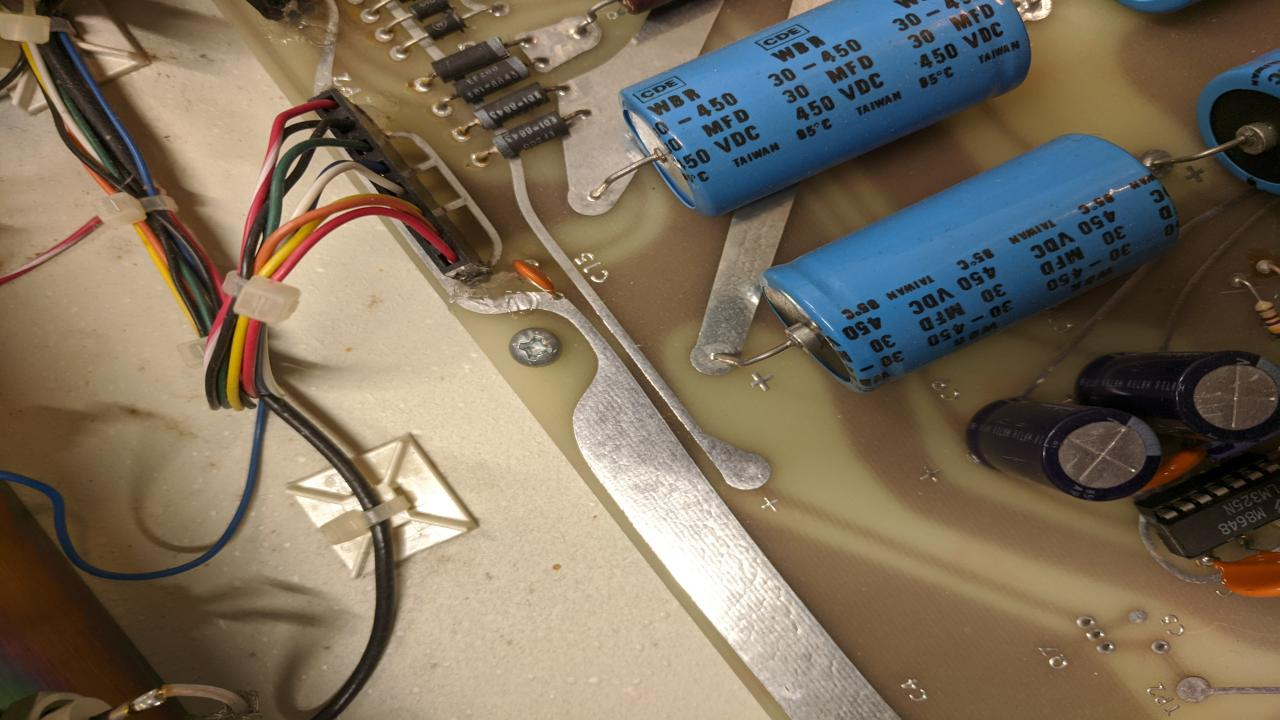CRS: (510, 325, 564, 369)
